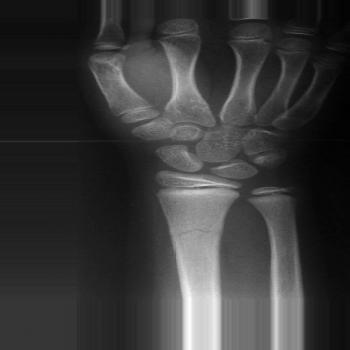Fracture: (167, 225, 230, 243)
